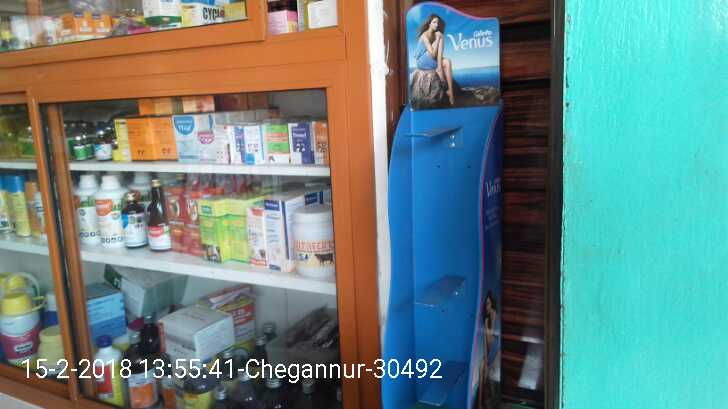reject: (344, 158, 421, 228)
